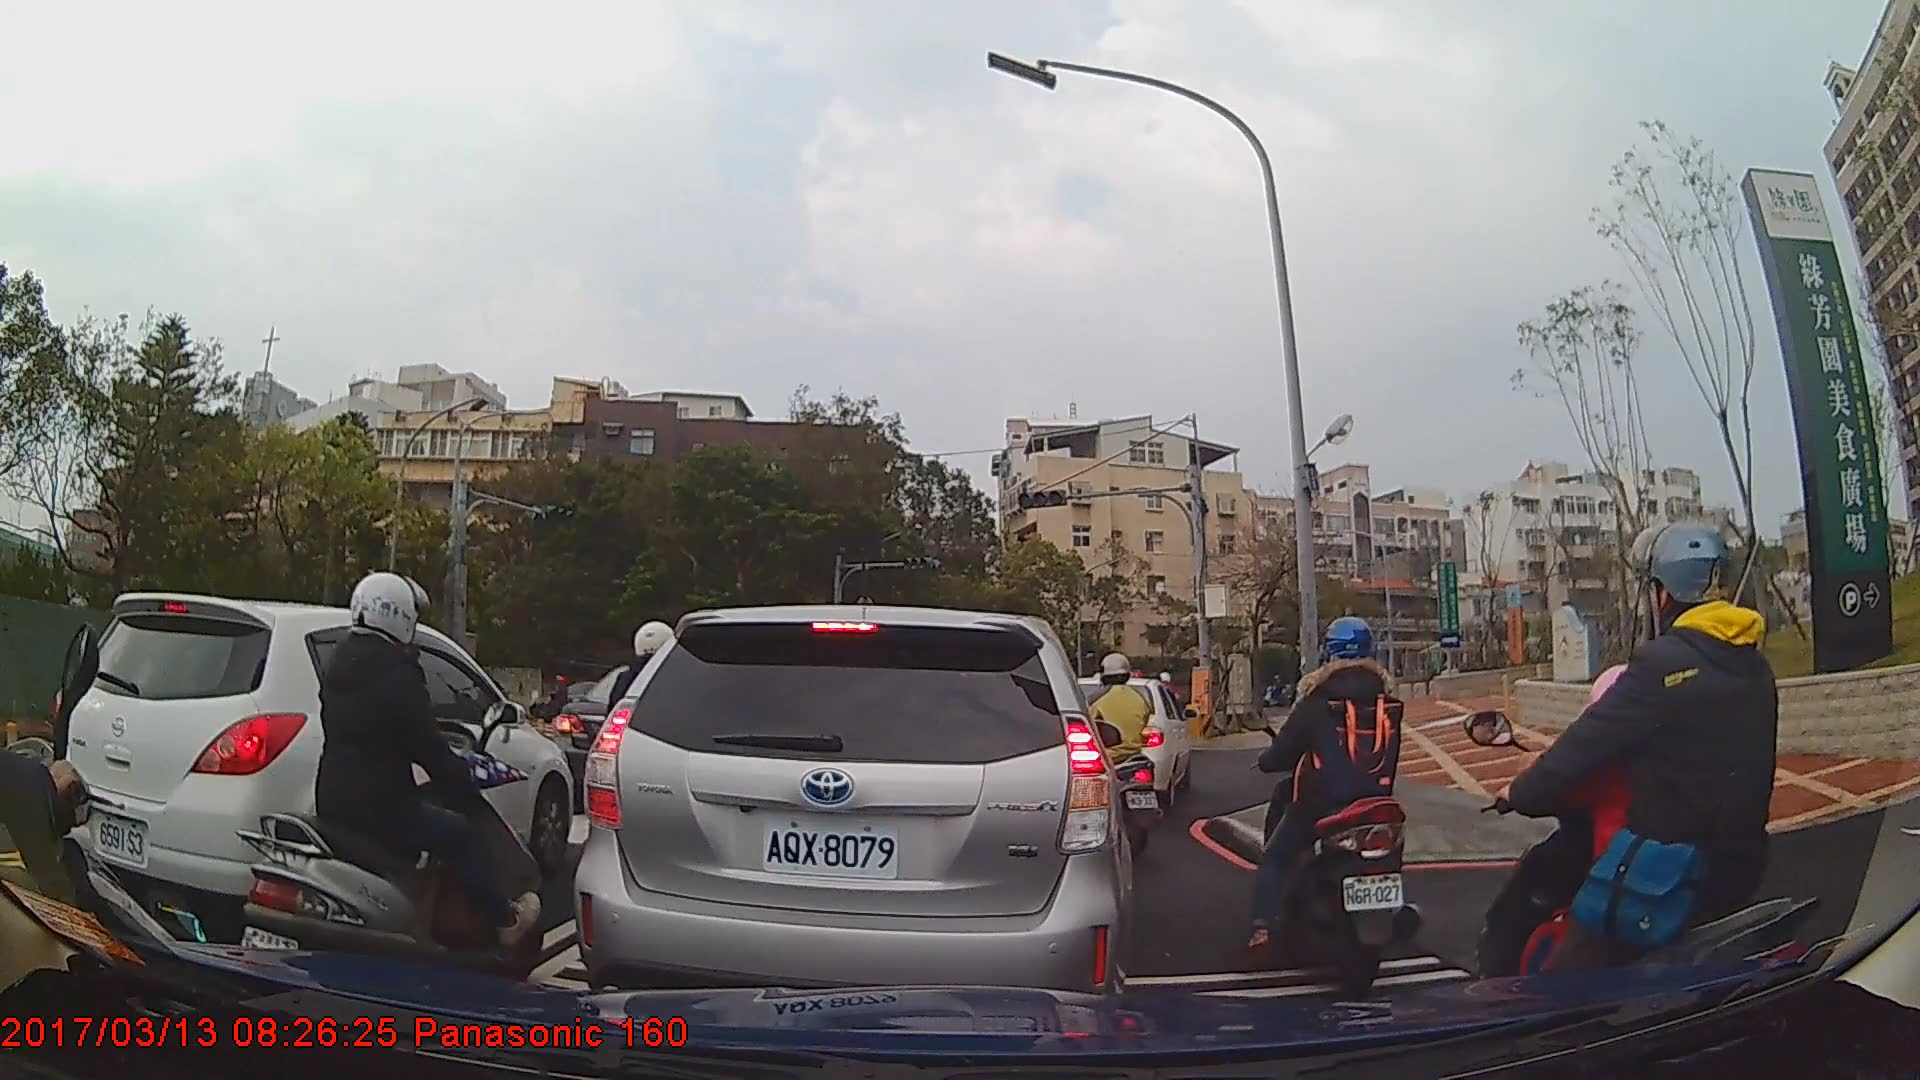rider: (1478, 519, 1820, 1057), (239, 570, 553, 996), (1229, 613, 1427, 982), (1066, 650, 1165, 857)
vehicle: (569, 601, 1138, 1032), (44, 591, 573, 933), (551, 657, 771, 803)
